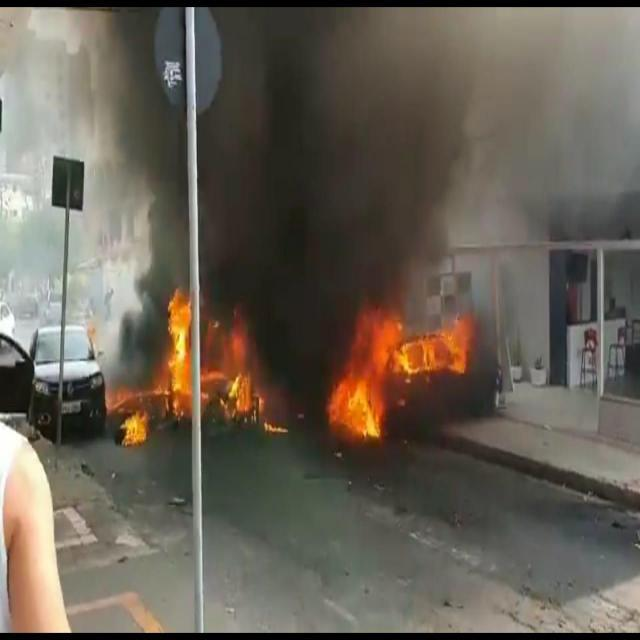Fire: (330, 306, 467, 440), (166, 289, 190, 418), (222, 365, 262, 418), (120, 411, 150, 449), (262, 418, 288, 436)
